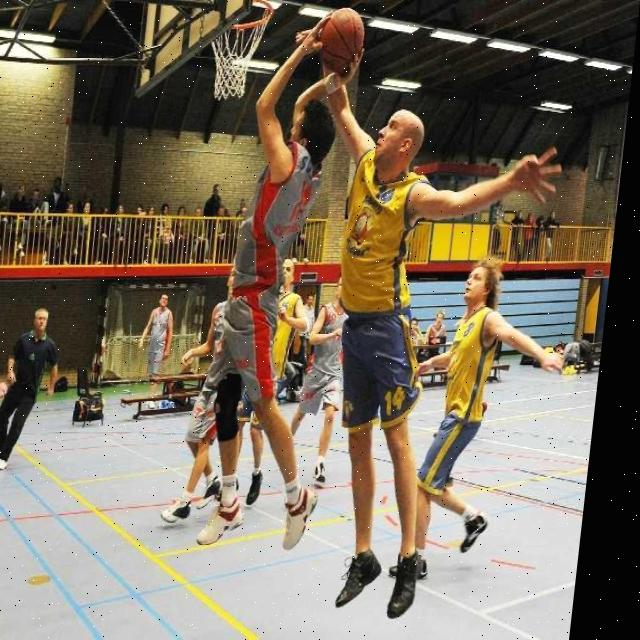basketball: (315, 8, 368, 76)
hoop: (201, 0, 279, 104)
